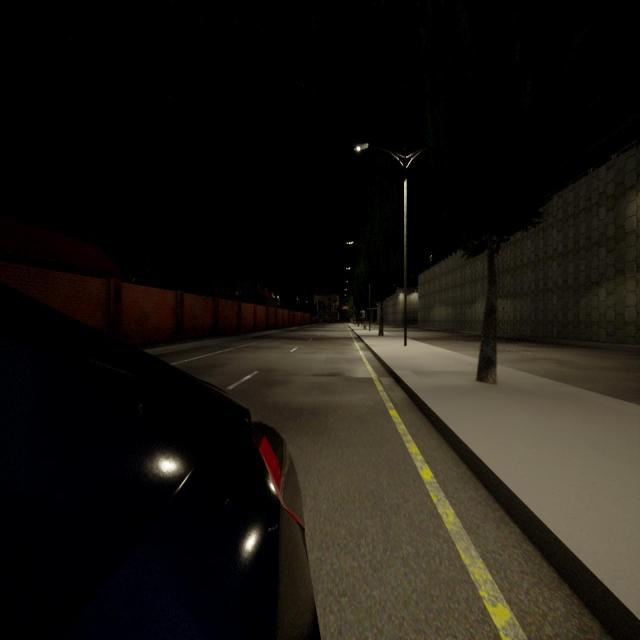Vehicle: (0, 288, 315, 637)
